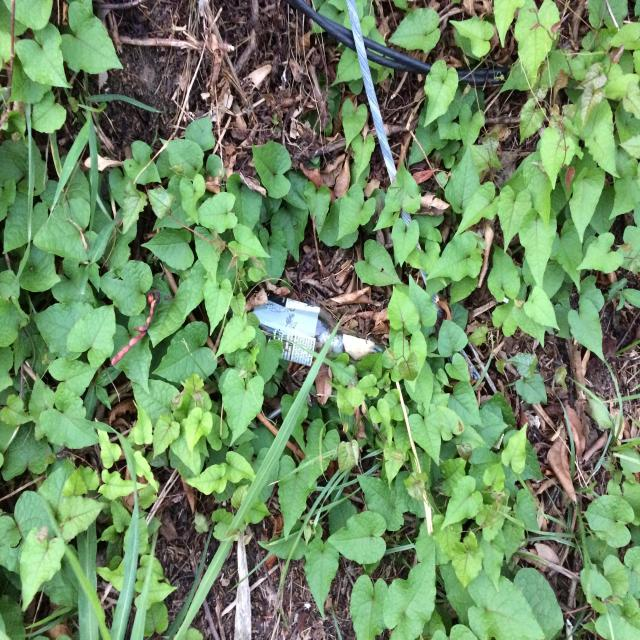litter: (347, 1, 480, 379), (251, 290, 391, 368)
